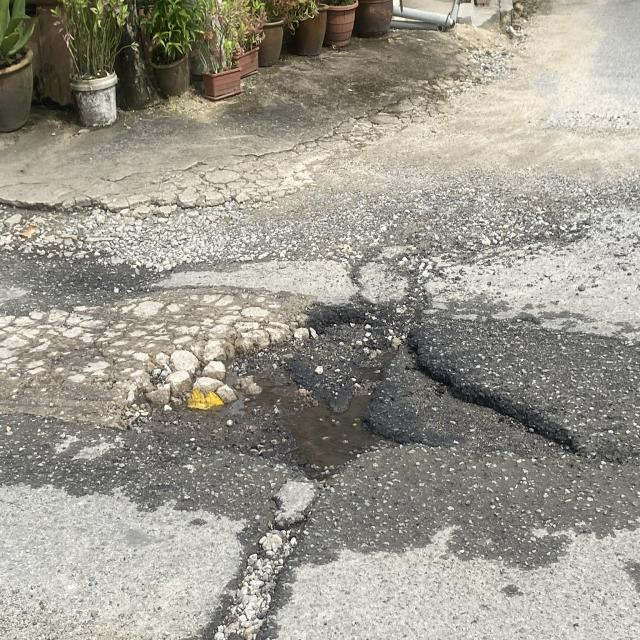pothole: (241, 294, 629, 554)
